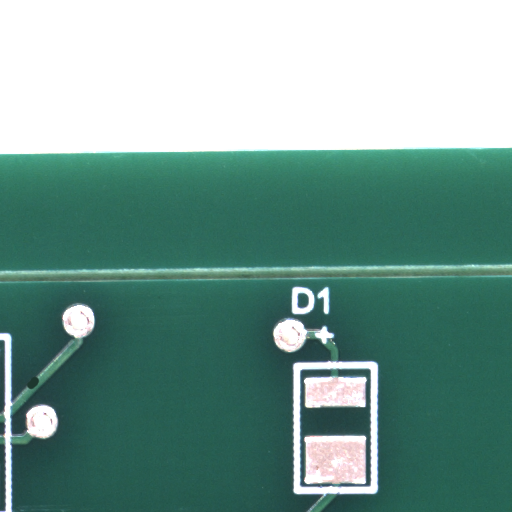Mouse_bite: (32, 383, 44, 396)
